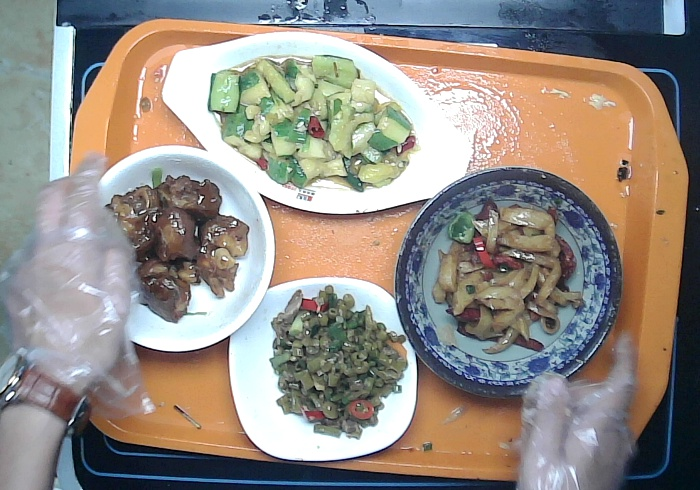ZNLD-Qing_Hua_Wan: (393, 165, 623, 399)
ZNLD-Si_Fang_Wan: (226, 274, 418, 463)
ZNLD-Tang_Wan: (96, 142, 275, 353)
ZNLD-Yu_Pan: (159, 29, 473, 216)
